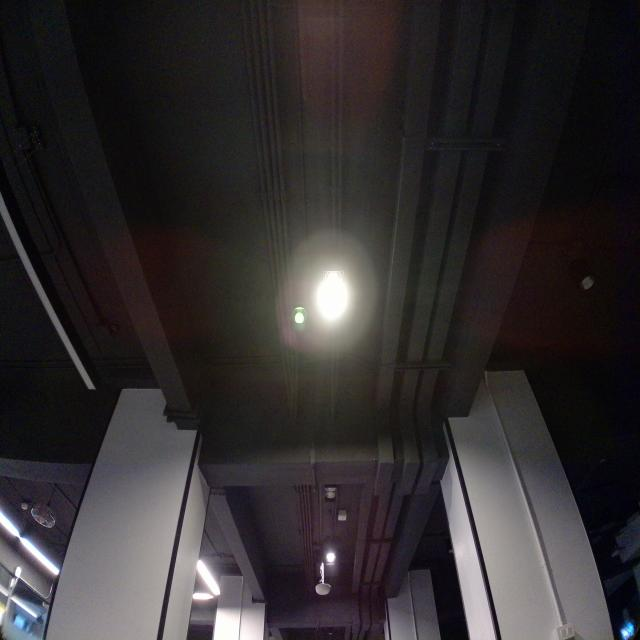lamp1_on: (303, 251, 365, 345)
